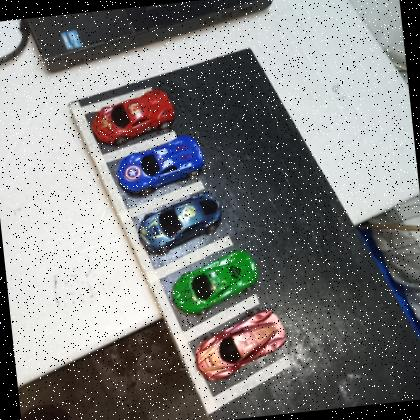Car: (190, 306, 291, 382), (168, 247, 262, 318), (134, 189, 226, 257), (114, 133, 207, 197), (87, 86, 178, 148)
